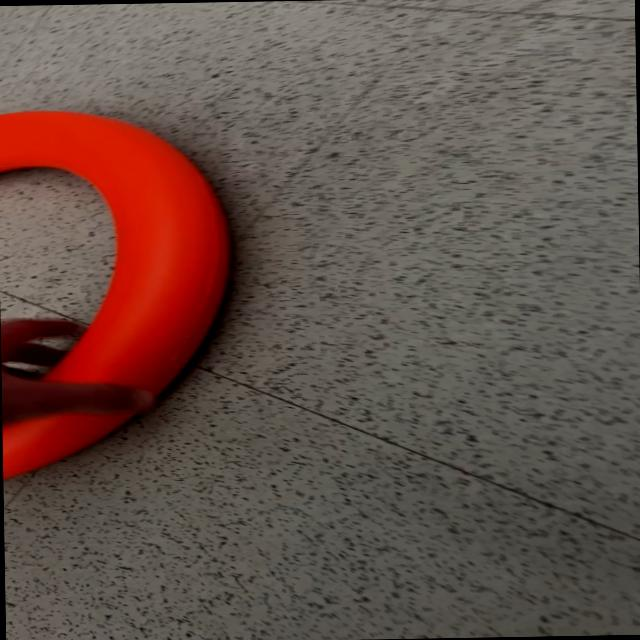note: (0, 105, 236, 479)
